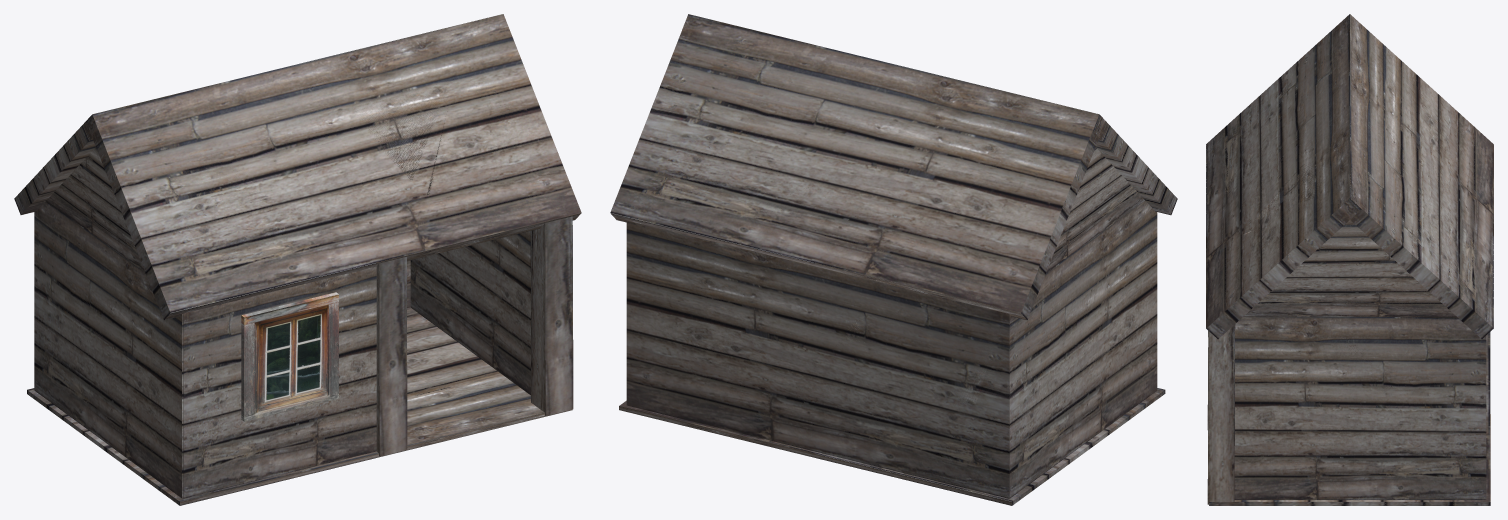
File: Hut60.FBX
The picture shows the model from 3 angles, left to right: view 1: azimuth 30°, elevation 25°; view 2: azimuth 150°, elevation 25°; view 3: azimuth 270°, elevation 25°; orthographic projection. The views are drawn at different scales.
Parts seen in each view (by area): view 1: RoofFront_Part_2, RoofFront_Part_1, RoofFront_Part_5, RoofFront_Part_4, Front_Part_2, RoofFront_Part_3, Left_Part_5, Base_Part_4, Left_Part_3, Front_Part_1, Left_Part_1, Right_Part_1 (+23 smaller); view 2: Back_Part_2, RoofBack_Part_4, RoofBack_Part_5, RoofBack_Part_2, RoofBack_Part_3, Back_Part_5, Left_Part_5, Back_Part_3, Left_Part_3, Back_Part_4, Back_Part_1, Left_Part_1 (+11 smaller); view 3: Right_Part_1, RoofBack_Part_4, RoofFront_Part_1, Right_Part_5, RoofFront_Part_2, Right_Part_4, RoofBack_Part_2, RoofBack_Part_5, RoofBack_Part_3, RoofFront_Part_5, RoofRight_Part_3, RoofFront_Part_4 (+14 smaller).
Boxes of the visible parts, x1,y1,x2,y2 form: RoofFront_Part_2: [86, 91, 306, 320]; RoofFront_Part_1: [426, 14, 581, 248]; RoofFront_Part_5: [296, 107, 462, 283]; RoofFront_Part_4: [314, 23, 468, 195]; Front_Part_2: [218, 266, 376, 458]; RoofFront_Part_3: [189, 60, 339, 232]; Left_Part_5: [34, 207, 91, 424]; Base_Part_4: [407, 307, 572, 426]; Left_Part_3: [41, 200, 183, 342]; Front_Part_1: [183, 305, 236, 475]; Left_Part_1: [111, 335, 183, 498]; Right_Part_1: [441, 231, 530, 318]; Back_Part_2: [626, 220, 885, 468]; RoofBack_Part_4: [746, 52, 1015, 288]; RoofBack_Part_5: [905, 94, 1099, 320]; RoofBack_Part_2: [610, 63, 760, 250]; RoofBack_Part_3: [688, 22, 841, 212]; Back_Part_5: [843, 273, 943, 472]; Left_Part_5: [1009, 312, 1067, 498]; Back_Part_3: [914, 291, 1009, 407]; Left_Part_3: [1031, 201, 1157, 330]; Back_Part_4: [907, 400, 1009, 498]; Back_Part_1: [793, 261, 906, 473]; Left_Part_1: [1086, 313, 1157, 432]; Right_Part_1: [1235, 317, 1480, 472]; RoofBack_Part_4: [1350, 51, 1493, 267]; RoofFront_Part_1: [1206, 183, 1361, 339]; Right_Part_5: [1374, 336, 1485, 499]; RoofFront_Part_2: [1206, 14, 1349, 204]; Right_Part_4: [1234, 360, 1304, 499]; RoofBack_Part_2: [1380, 220, 1493, 338]; RoofBack_Part_5: [1350, 14, 1493, 195]; RoofBack_Part_3: [1350, 129, 1469, 245]; RoofFront_Part_5: [1206, 148, 1314, 275]; RoofRight_Part_3: [1243, 240, 1348, 316]; RoofFront_Part_4: [1242, 113, 1349, 234].
Size of the model in its own units: 6.88 by 5.41 by 4.53.
